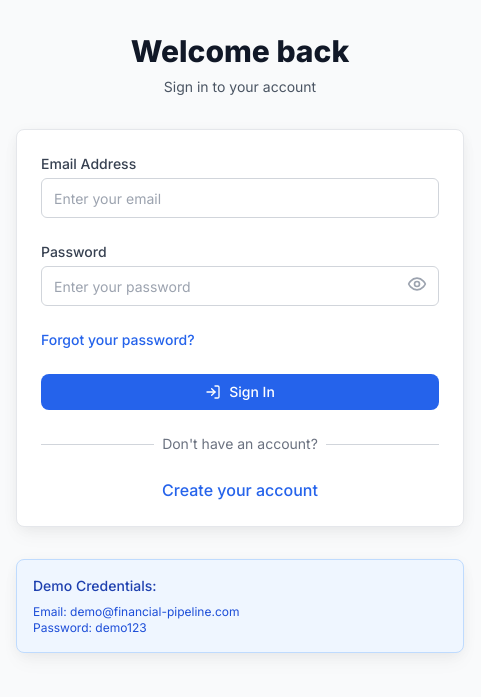
Test: LoginPage › shows validation errors
This screenshot has width=481, height=697.
Click the button "Sign In" at [240, 392], box [41, 374, 439, 410]
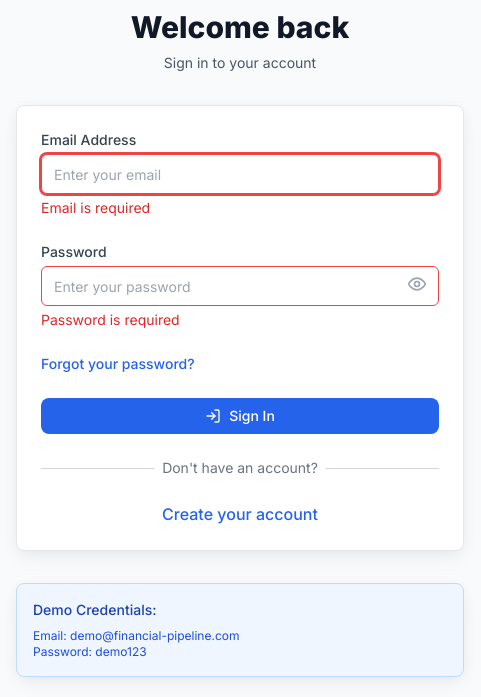
Check: the text "Email is required" is shown, box [41, 199, 150, 216]
Check: the text "Password is required" is shown, box [41, 311, 180, 328]
